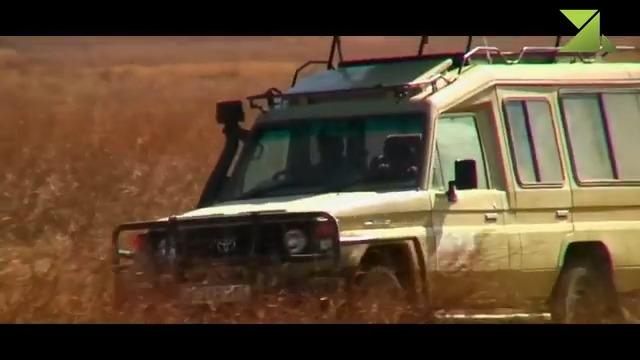MIL_HMMWV: (113, 45, 640, 323)
